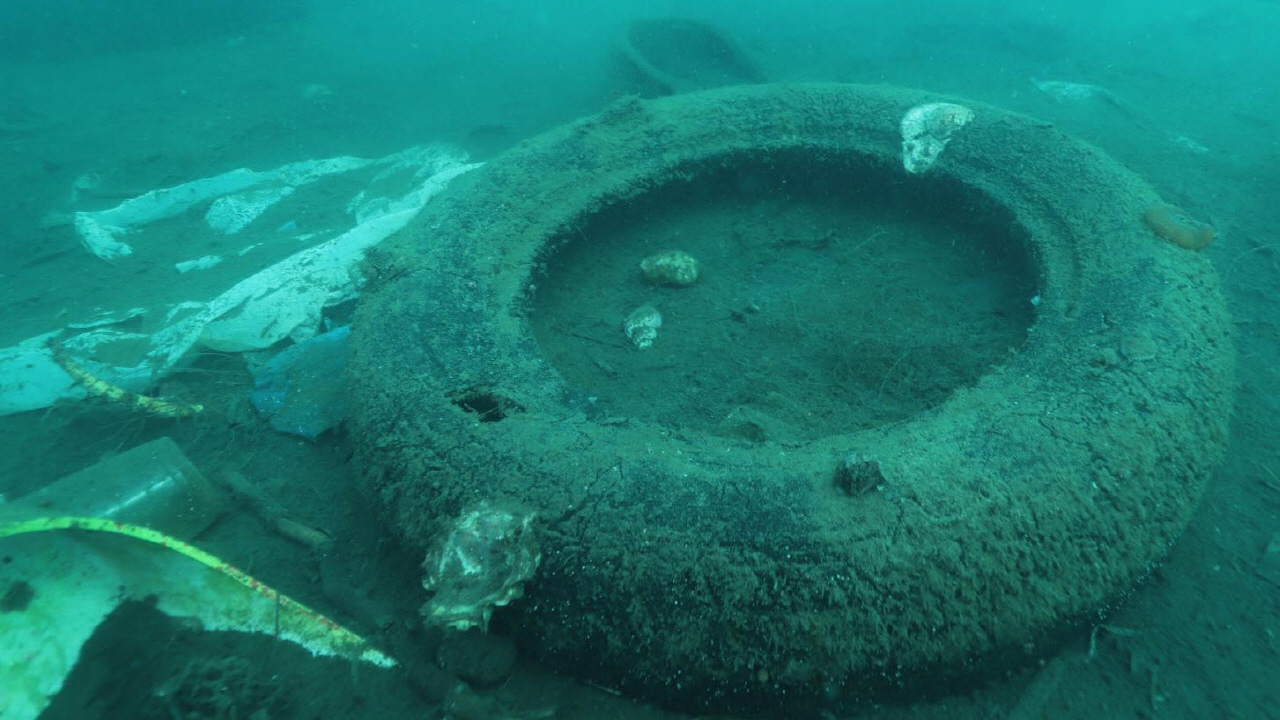tire: (342, 81, 1237, 708)
